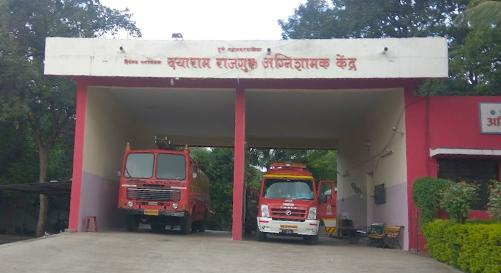Fire-engine: (120, 140, 214, 233)
